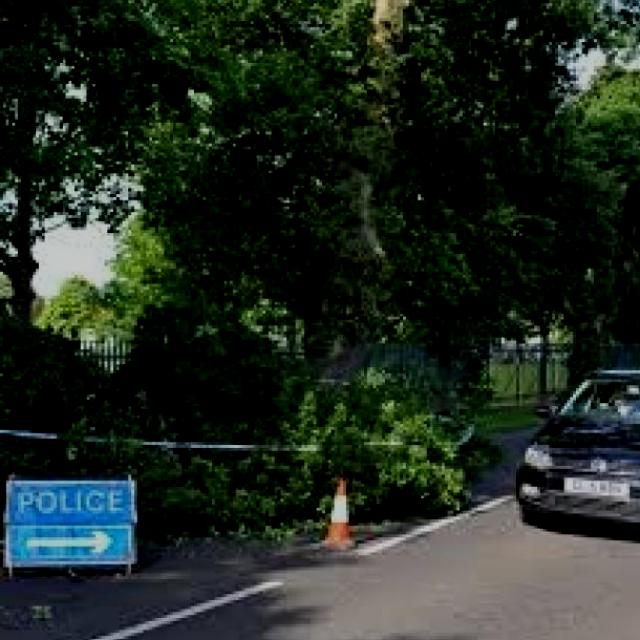fallen_object: (0, 292, 514, 544)
